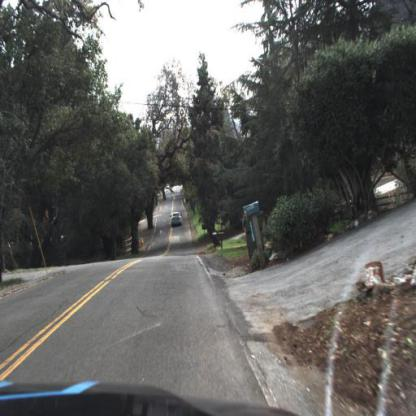car: (169, 211, 186, 230)
